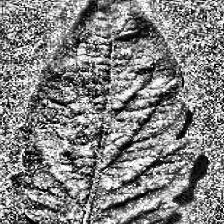spider mites: (12, 0, 199, 224)
